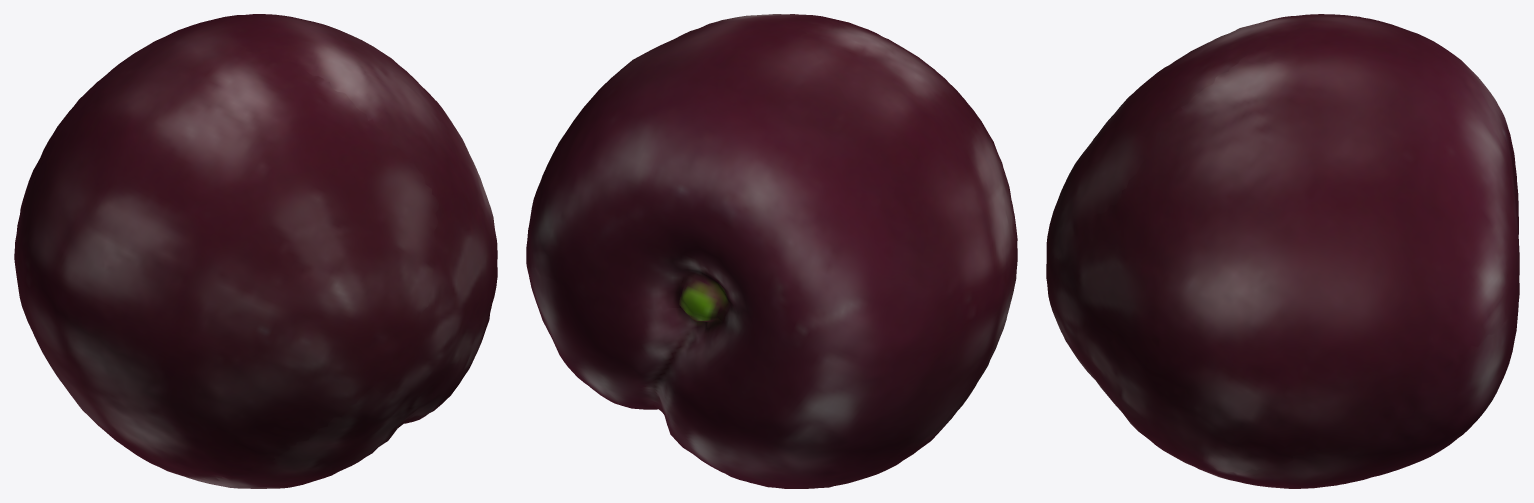
The model's file is textured_simplified.obj.
3 renders of one model, left to right at view 1: azimuth 30°, elevation 25°; view 2: azimuth 150°, elevation 25°; view 3: azimuth 270°, elevation 25°, orthographic. The views are drawn at different scales.
Bounding box in the file's own units: 0.0571 × 0.0549 × 0.053.
Materials: 1 (1 with a texture image).
